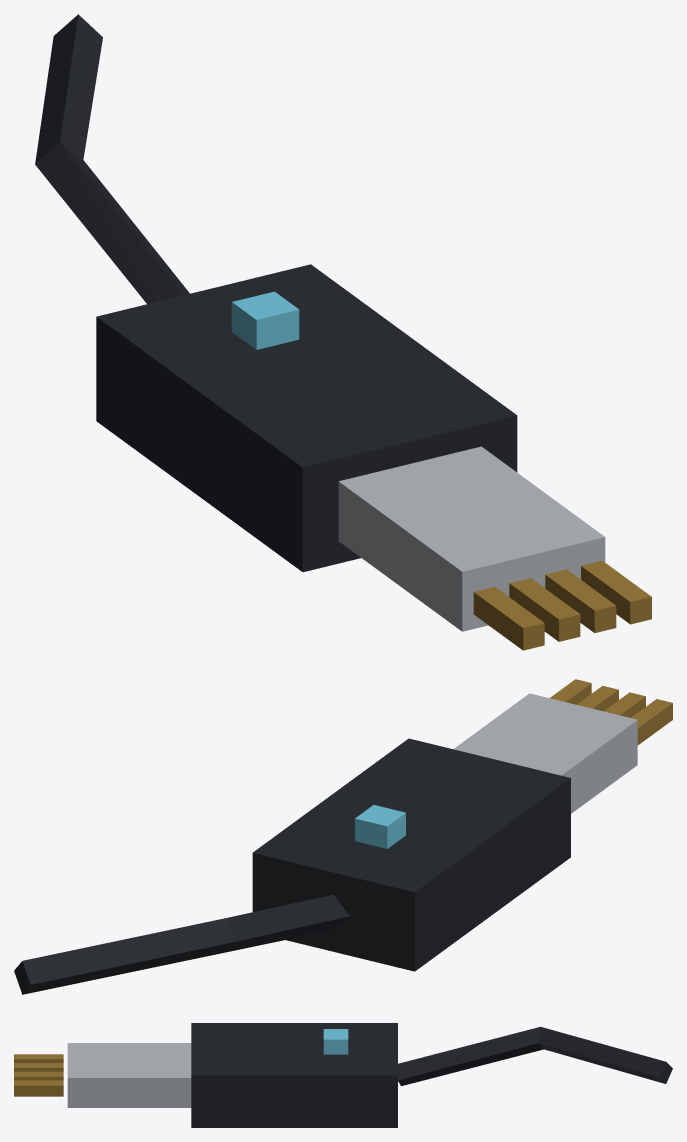
File: computer-spike.lod.glb
The picture shows the model from 3 angles, top to bottom: view 1: azimuth 30°, elevation 25°; view 2: azimuth 150°, elevation 25°; view 3: azimuth 270°, elevation 25°; orthographic projection. The views are drawn at different scales.
Visible parts, largest first — view 1: m; view 2: m; view 3: m.
Part boxes in pixels (bbox=[...]): m: bbox=[35, 14, 651, 650]; m: bbox=[14, 679, 672, 994]; m: bbox=[14, 1023, 672, 1127].
Size of the model in its own units: 0.0329 by 0.0175 by 0.14.
